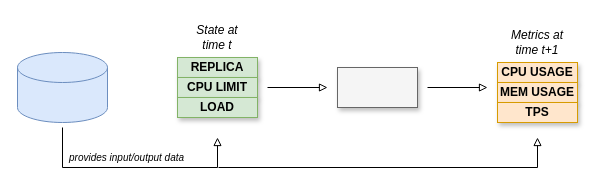
This 601x193 diagram has some shape labels left out. The shapes that lost their labels are listed below. From the top down, each one's centre as x and y in pixels, then its label:
(x=62, y=87): HISTORICAL DATA
(x=378, y=88): PREDICTION MODEL
